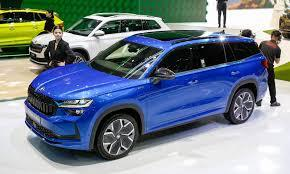skoda: (35, 84, 47, 93)
